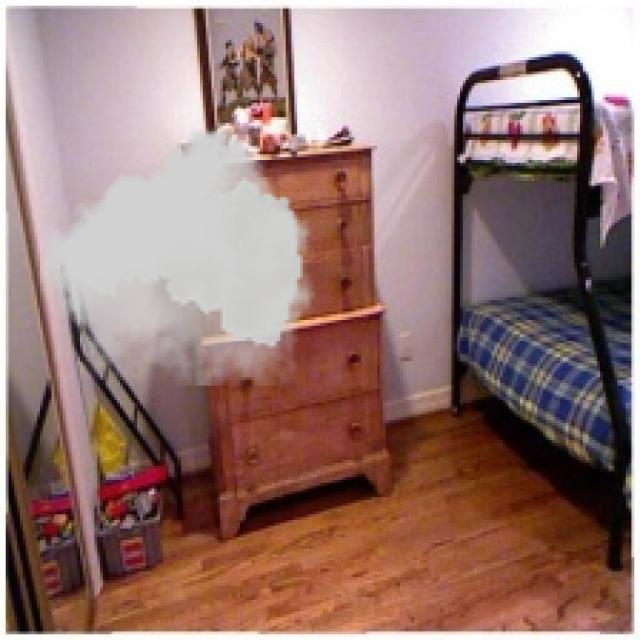Smoke: (39, 128, 314, 386)
